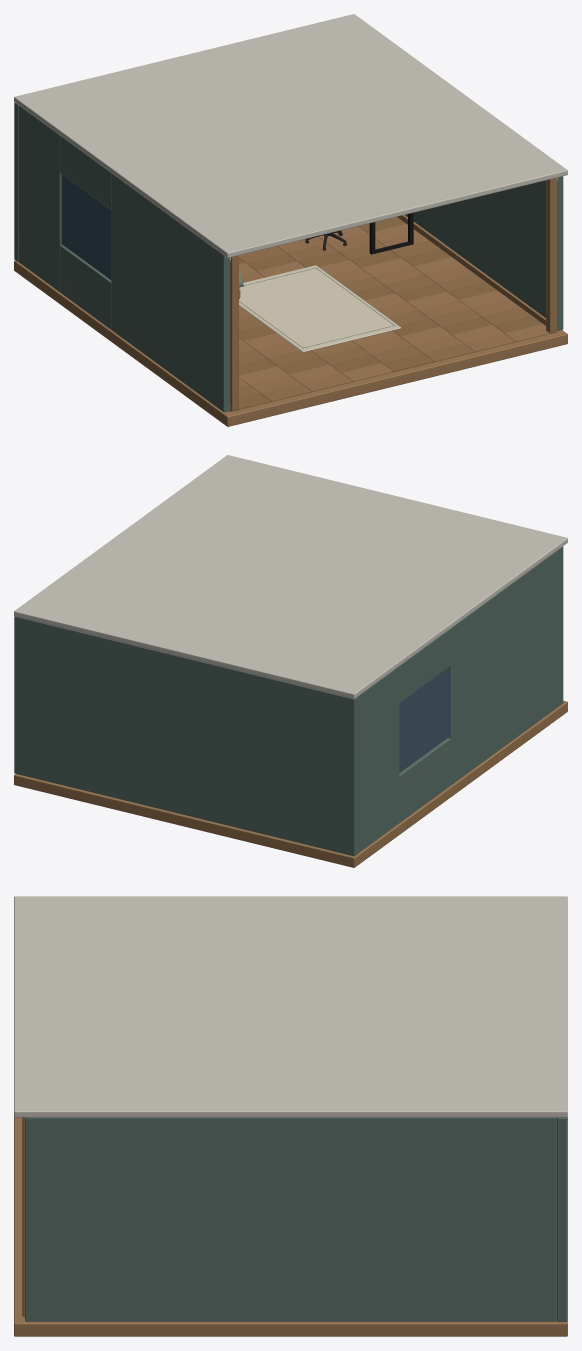
File: room.glb
The picture shows the model from 3 angles, top to bottom: view 1: azimuth 30°, elevation 25°; view 2: azimuth 150°, elevation 25°; view 3: azimuth 270°, elevation 25°; orthographic projection. The views are drawn at different scales.
Parts seen in each view (by area): view 1: Techo, Pared izquierda frontal, Pared derecha, Alfombra, Forjado, Pared izquierda trasera, Vidrio ventana, Bajo ventana, Sobre ventana, Marco de entrada.001, Marco de entrada, Rodapié lateral.001 (+8 smaller); view 2: Techo, Pared fondo, Pared izquierda frontal, Forjado, Pared izquierda trasera, Vidrio ventana, Bajo ventana, Sobre ventana; view 3: Techo, Pared derecha, Forjado, Pared fondo, Marco de entrada.001.
Part boxes in pixels (x1=…): Techo: x1=14, y1=14, x2=567, y2=257; Pared izquierda frontal: x1=111, y1=173, x2=230, y2=412; Pared derecha: x1=405, y1=176, x2=563, y2=330; Alfombra: x1=239, y1=265, x2=401, y2=352; Forjado: x1=14, y1=260, x2=567, y2=426; Pared izquierda trasera: x1=18, y1=105, x2=62, y2=291; Vidrio ventana: x1=61, y1=174, x2=111, y2=279; Bajo ventana: x1=60, y1=245, x2=111, y2=329; Sobre ventana: x1=60, y1=136, x2=111, y2=209; Marco de entrada.001: x1=546, y1=178, x2=556, y2=333; Marco de entrada: x1=230, y1=255, x2=238, y2=411; Rodapié lateral.001: x1=397, y1=215, x2=545, y2=325; Techo: x1=14, y1=455, x2=567, y2=698; Pared fondo: x1=14, y1=616, x2=358, y2=856; Pared izquierda frontal: x1=448, y1=546, x2=563, y2=784; Forjado: x1=14, y1=700, x2=567, y2=867; Pared izquierda trasera: x1=358, y1=666, x2=399, y2=852; Vidrio ventana: x1=399, y1=667, x2=449, y2=772; Bajo ventana: x1=399, y1=738, x2=450, y2=822; Sobre ventana: x1=399, y1=629, x2=450, y2=702; Techo: x1=14, y1=896, x2=567, y2=1117; Pared derecha: x1=25, y1=1117, x2=556, y2=1321; Forjado: x1=14, y1=1117, x2=567, y2=1336; Pared fondo: x1=557, y1=1117, x2=567, y2=1321; Marco de entrada.001: x1=22, y1=1117, x2=24, y2=1316.
Size of the model in its own units: 6.9 by 3.37 by 7.5.
Materials: 230 (12 with a texture image).
